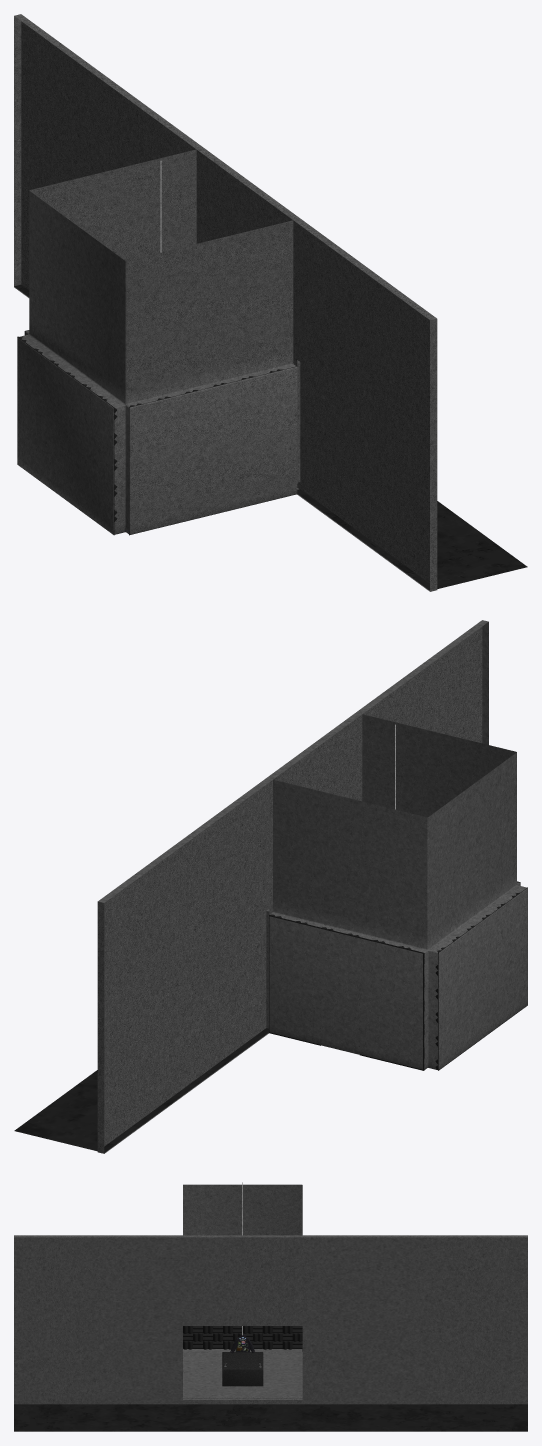
3 views of the same model, one above another, from view 1: azimuth 30°, elevation 25°; view 2: azimuth 150°, elevation 25°; view 3: azimuth 270°, elevation 25° (orthographic). The views are drawn at different scales.
Parts seen in each view (by area): view 1: Building, Building.002, Building.001; view 2: Building, Building.002, Building.001, Plane.006; view 3: Building.002, Building.001, Building, Plane.001, Cube.002, Jacket.
Part boxes in pixels (left/top/right/bottom): Building: left=17, top=149, right=437, bottom=591; Building.002: left=14, top=14, right=436, bottom=591; Building.001: left=14, top=284, right=527, bottom=590; Building: left=269, top=622, right=527, bottom=1069; Building.002: left=97, top=620, right=488, bottom=1153; Building.001: left=14, top=1028, right=268, bottom=1152; Plane.006: left=269, top=914, right=424, bottom=1070; Building.002: left=14, top=1235, right=527, bottom=1404; Building.001: left=14, top=1404, right=527, bottom=1431; Building: left=183, top=1184, right=302, bottom=1397; Plane.001: left=183, top=1326, right=302, bottom=1349; Cube.002: left=222, top=1352, right=263, bottom=1386; Jacket: left=230, top=1335, right=254, bottom=1353.
Bounding box in the file's own units: 25.34 × 27.84 × 65.85.
Materials: 13 (11 with a texture image).
